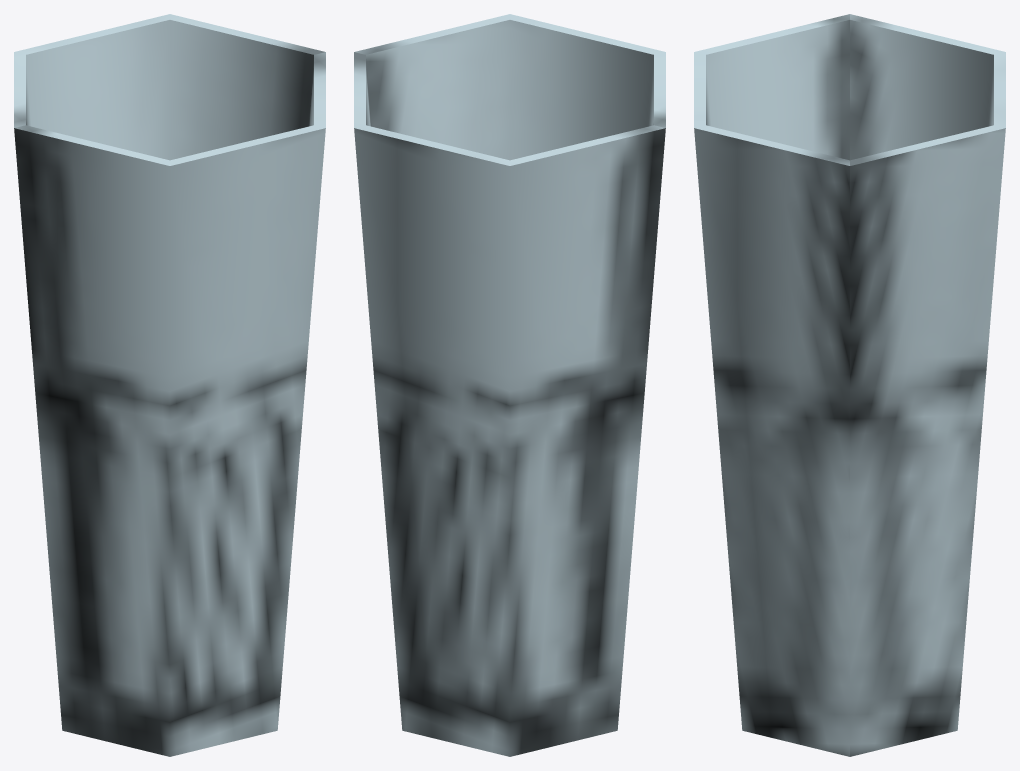
The model's file is EmptyGlassV8.fbx.
3 renders of one model, left to right at view 1: azimuth 30°, elevation 25°; view 2: azimuth 150°, elevation 25°; view 3: azimuth 270°, elevation 25°, orthographic.
Visible parts, largest first — view 1: Glasses.003; view 2: Glasses.003; view 3: Glasses.003.
Boxes of the visible parts, <box> form: Glasses.003: <box>14,14,325,756</box>; Glasses.003: <box>354,14,665,756</box>; Glasses.003: <box>694,14,1005,756</box>.
Bounding box in the file's own units: 0.1488 × 0.2801 × 0.1289.
